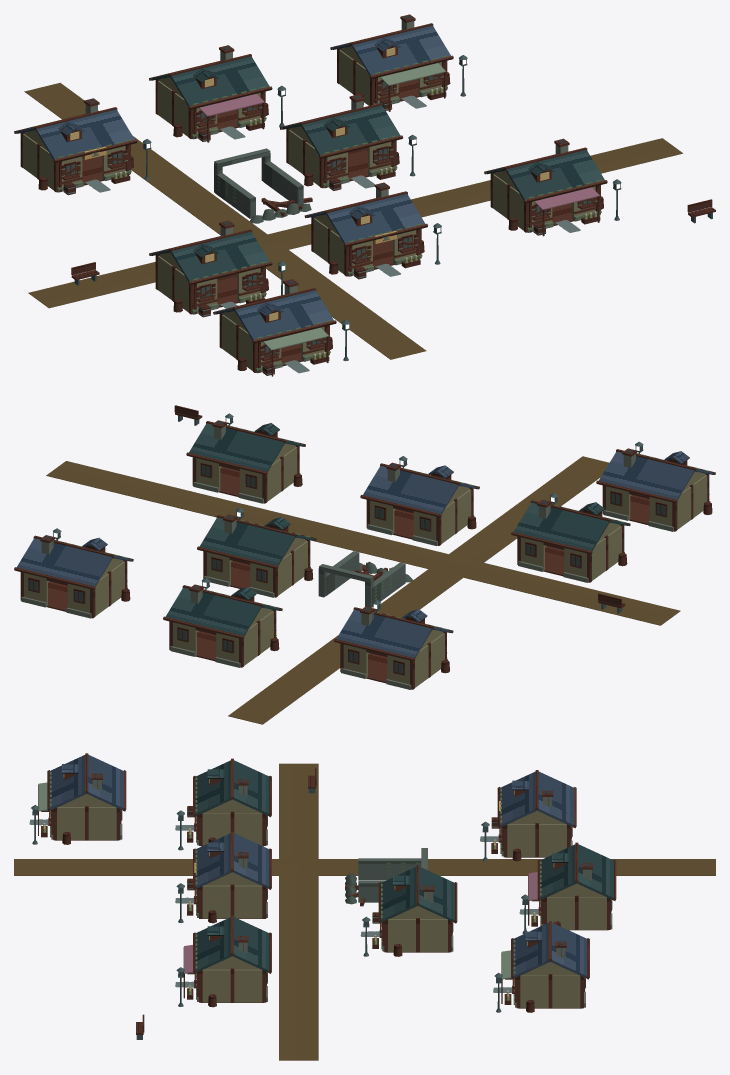
File: overgrown.glb
The picture shows the model from 3 angles, top to bottom: view 1: azimuth 30°, elevation 25°; view 2: azimuth 150°, elevation 25°; view 3: azimuth 270°, elevation 25°; orthographic projection. The views are drawn at different scales.
Parts seen in each view (by area): view 1: Street, _MeshInstance3D_3390, _MeshInstance3D_2995, _MeshInstance3D_3281, _MeshInstance3D_2853, _MeshInstance3D_3067, _MeshInstance3D_3139, _MeshInstance3D_3210, _MeshInstance3D_3353, _MeshInstance3D_2924, _MeshInstance3D_3795, _MeshInstance3D_3833 (+12 smaller); view 2: _MeshInstance3D_3390, Street, _MeshInstance3D_3724, _MeshInstance3D_3650, _MeshInstance3D_3688, RoofSlope, _MeshInstance3D_3614, _MeshInstance3D_3802, _MeshInstance3D_3840, _MeshInstance3D_3764, _MeshInstance3D_3795, _MeshInstance3D_3757 (+16 smaller); view 3: _MeshInstance3D_3390, Street, _MeshInstance3D_3779, _MeshInstance3D_3665, _MeshInstance3D_3739, _MeshInstance3D_3817, SideWall, _MeshInstance3D_3629, _MeshInstance3D_3593, _MeshInstance3D_3703, _MeshInstance3D_3614, _MeshInstance3D_3724 (+15 smaller).
Part boxes in pixels (x1,y1,x2,y2): Street: [24, 82, 426, 359]; _MeshInstance3D_3390: [28, 138, 682, 308]; _MeshInstance3D_2995: [171, 56, 269, 106]; _MeshInstance3D_3281: [506, 150, 604, 200]; _MeshInstance3D_2853: [301, 105, 400, 155]; _MeshInstance3D_3067: [352, 25, 450, 75]; _MeshInstance3D_3139: [171, 231, 269, 281]; _MeshInstance3D_3210: [327, 193, 425, 243]; _MeshInstance3D_3353: [235, 290, 333, 340]; _MeshInstance3D_2924: [36, 109, 134, 159]; _MeshInstance3D_3795: [493, 174, 523, 230]; _MeshInstance3D_3833: [222, 314, 252, 370]; _MeshInstance3D_3390: [46, 461, 680, 625]; Street: [228, 456, 609, 724]; _MeshInstance3D_3724: [513, 502, 609, 551]; _MeshInstance3D_3650: [165, 587, 261, 635]; _MeshInstance3D_3688: [16, 538, 112, 586]; RoofSlope: [199, 517, 294, 565]; _MeshInstance3D_3614: [336, 609, 431, 657]; _MeshInstance3D_3802: [189, 423, 284, 471]; _MeshInstance3D_3840: [599, 451, 694, 499]; _MeshInstance3D_3764: [363, 465, 458, 514]; _MeshInstance3D_3795: [267, 447, 297, 501]; _MeshInstance3D_3757: [441, 489, 471, 543]; _MeshInstance3D_3390: [279, 763, 318, 1060]; Street: [14, 859, 715, 875]; _MeshInstance3D_3779: [202, 969, 262, 1002]; _MeshInstance3D_3665: [520, 975, 580, 1008]; _MeshInstance3D_3739: [202, 885, 262, 918]; _MeshInstance3D_3817: [57, 807, 116, 840]; SideWall: [388, 919, 447, 952]; _MeshInstance3D_3629: [547, 897, 606, 929]; _MeshInstance3D_3593: [507, 824, 566, 856]; _MeshInstance3D_3703: [202, 813, 262, 845]; _MeshInstance3D_3614: [537, 771, 574, 826]; _MeshInstance3D_3724: [233, 760, 269, 815].
Size of the model in its own units: 53 by 4.86 by 53.
98 materials, 9 textured.
